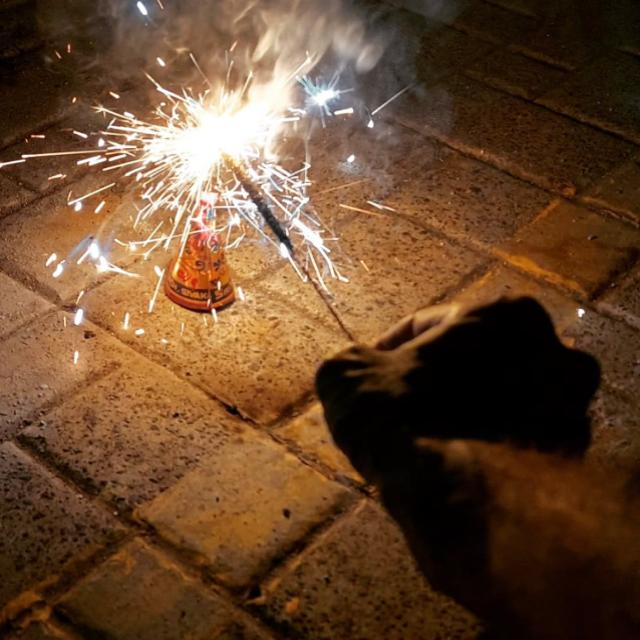fire: (145, 87, 282, 180)
